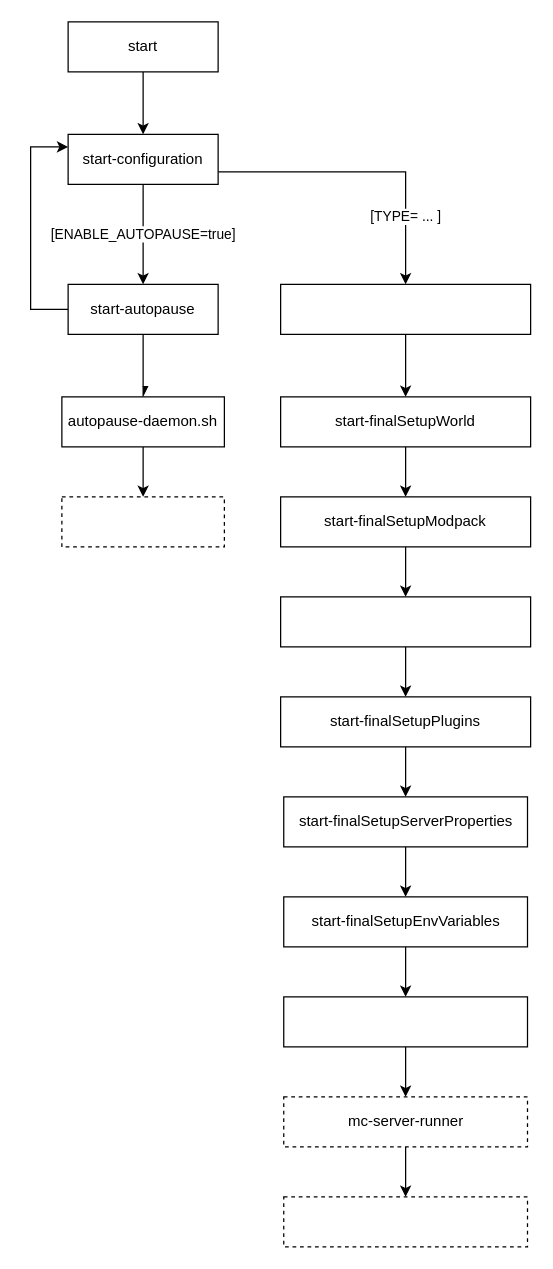
This 553x1269 diagram has some shape labels left out. The centre of each missing label's shape, as x and y in pixels:
java: point 405,1221
knockd: point 142,521
start-deploy...: point 405,308
start-finalSetupModconfig: point 405,621
start-minecraftFinalSetup: point 405,1021
